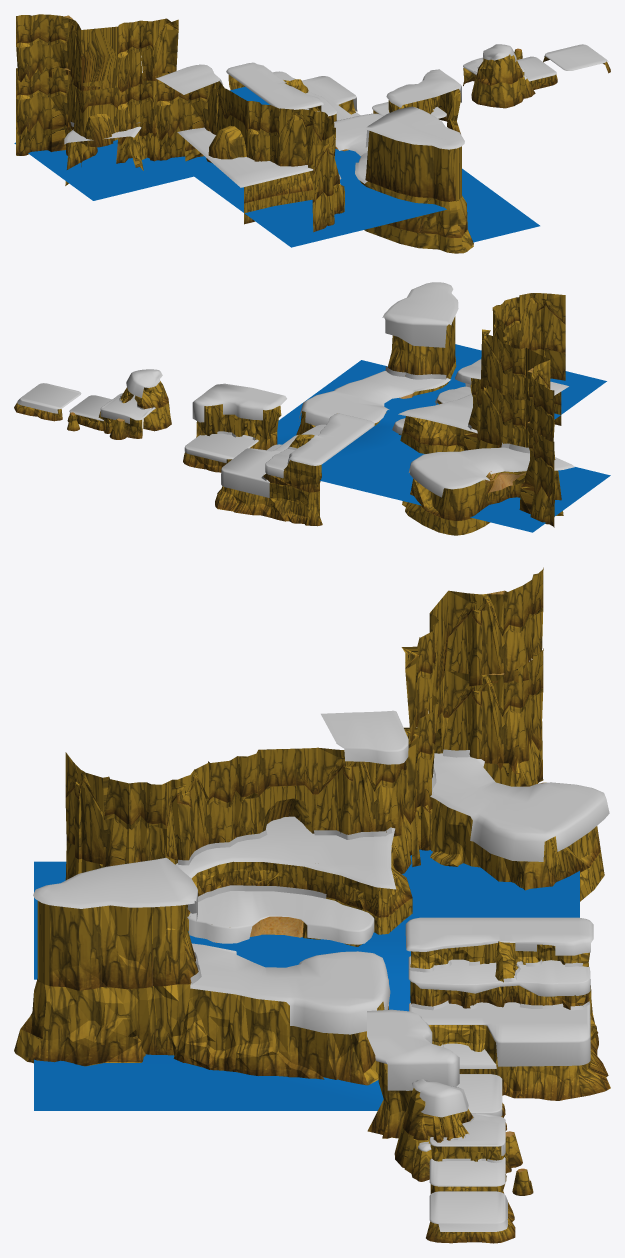
File: 1_2TheNewest.FBX
3 views of the same model, one above another, from view 1: azimuth 30°, elevation 25°; view 2: azimuth 150°, elevation 25°; view 3: azimuth 270°, elevation 25° (orthographic). The views are drawn at different scales.
Parts seen in each view (by area): view 1: Area5 (×2), Area6, Dont Touch this water, Lowered Water, Area1 (×2), Area3 (×2), Area4, Area2 (×2), Area6 use Area4 Texture; view 2: Area6, Area5 (×2), Dont Touch this water, Area3 (×2), Area4, Area2 (×2), Area1 (×2), Area6 use Area4 Texture, Lowered Water; view 3: Area5 (×2), Area6, Area3 (×2), Dont Touch this water, Area4, Area1 (×2), Area6 use Area4 Texture, Area2 (×2), Lowered Water.
Boxes of the visible parts, x1,y1,x2,y2 form: Area5 (×2): [156, 64, 473, 253]; Area6: [16, 14, 178, 185]; Dont Touch this water: [14, 86, 539, 242]; Lowered Water: [194, 149, 446, 247]; Area1 (×2): [463, 44, 610, 108]; Area3 (×2): [226, 62, 360, 121]; Area4: [334, 106, 464, 183]; Area2 (×2): [372, 69, 461, 133]; Area6 use Area4 Texture: [64, 121, 141, 144]; Area6: [402, 329, 563, 535]; Area5 (×2): [296, 293, 568, 453]; Dont Touch this water: [277, 360, 610, 532]; Area3 (×2): [215, 413, 374, 526]; Area4: [298, 282, 458, 425]; Area2 (×2): [183, 383, 286, 472]; Area1 (×2): [14, 369, 171, 439]; Area6 use Area4 Texture: [408, 442, 574, 497]; Lowered Water: [381, 344, 606, 422]; Area5 (×2): [14, 710, 415, 1085]; Area6: [401, 567, 604, 901]; Area3 (×2): [405, 917, 610, 1100]; Dont Touch this water: [34, 849, 579, 1110]; Area4: [33, 857, 390, 1034]; Area1 (×2): [394, 1079, 533, 1243]; Area6 use Area4 Texture: [430, 749, 609, 861]; Area2 (×2): [367, 1009, 506, 1138]; Lowered Water: [34, 861, 334, 979].
Size of the model in its own units: 5205 by 1617 by 3089.
